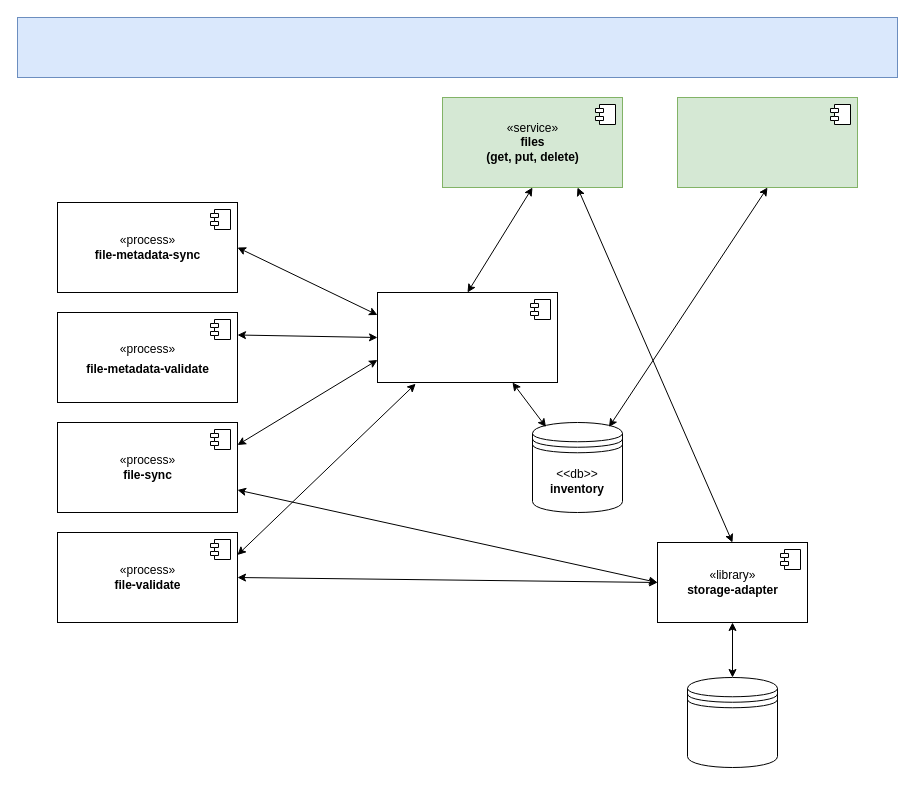
The diagram is 915 pixels wide and 785 high, and some of its shapes have lost their labels. The shapes that lost their labels are listed below. From the top down, each one's centre as x and y in pixels, then its label:
the point at 457,47: storage site: local metadata and data
the point at 767,142: «service» tap (query)
the point at 467,337: «library» inventory-db
the point at 732,722: <<storage>>
